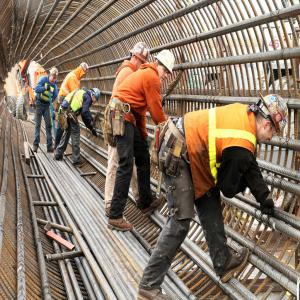blue: (90, 87, 102, 105)
red: (255, 90, 291, 144), (130, 42, 151, 71), (50, 68, 60, 86), (80, 63, 90, 78)
white: (156, 48, 175, 83)
